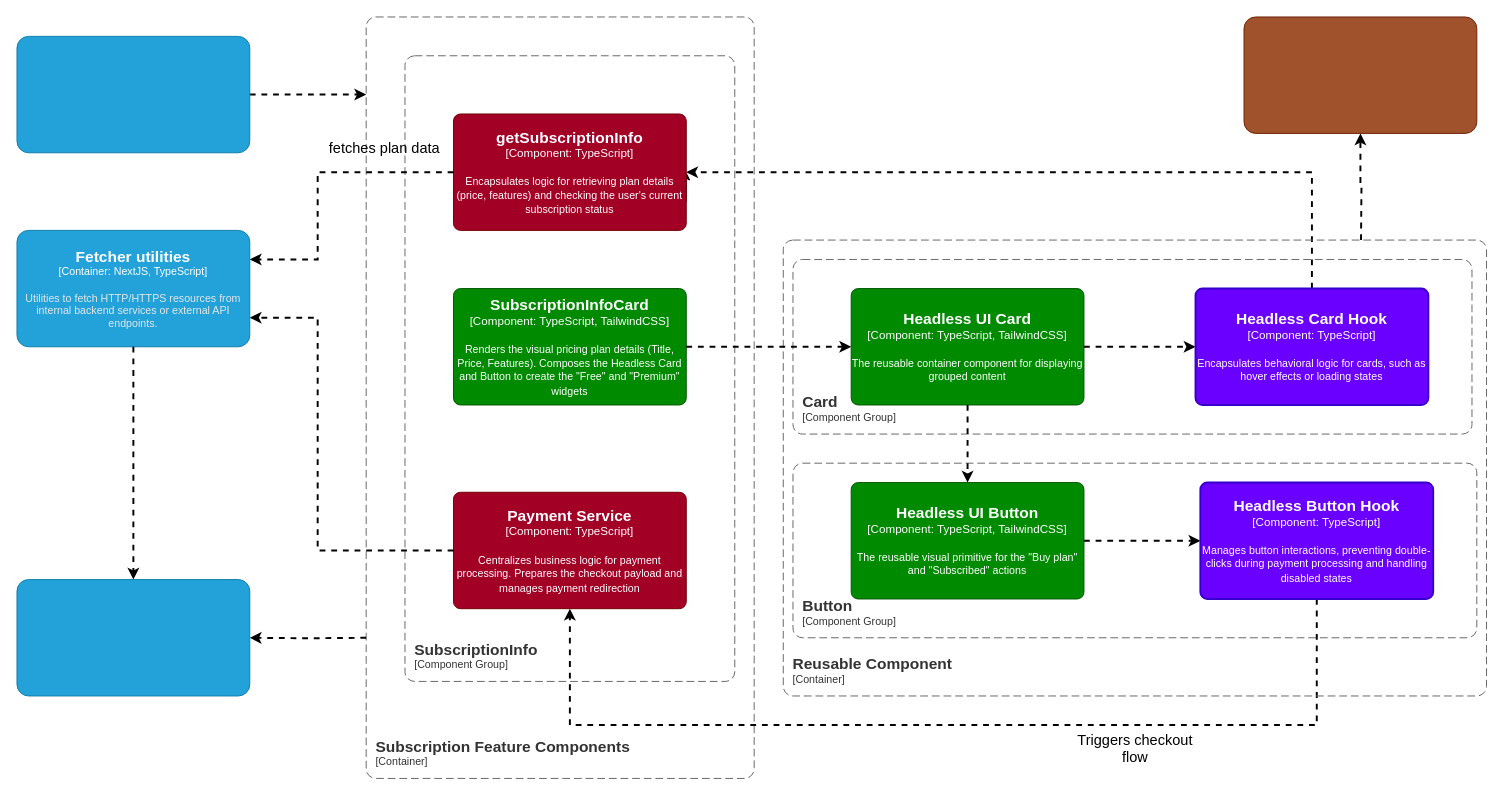
This 1504x795 diagram has some shape labels left out. The shapes that lost their labels are listed below. From the top down, each one's centre as x and y in pixels, then its label:
At point (133, 94): "Page [Container: TypeScript] Root page".
At point (1360, 74): "bamboo-ui [Software System] Shared UI library".
At point (133, 637): "Constants Manager [Container: TypeScript] declares all constant URLs".
